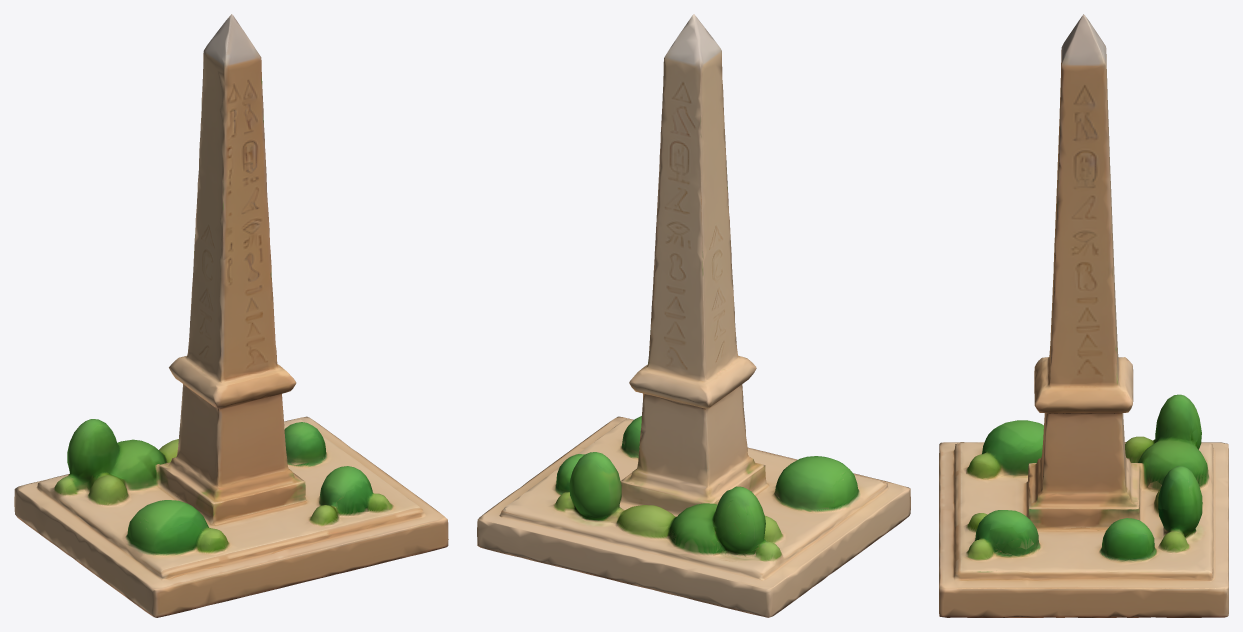
The model's file is Obelisk.fbx.
3 renders of one model, left to right at view 1: azimuth 30°, elevation 25°; view 2: azimuth 150°, elevation 25°; view 3: azimuth 270°, elevation 25°, orthographic. The views are drawn at different scales.
Parts seen in each view (by area): view 1: Obelisk; view 2: Obelisk; view 3: Obelisk.
Boxes of the visible parts, x1,y1,x2,y2 form: Obelisk: [14, 14, 448, 617]; Obelisk: [477, 14, 910, 617]; Obelisk: [939, 14, 1228, 617].
Size of the model in its own units: 1.78 by 3 by 1.48.
1 material, 1 textured.
